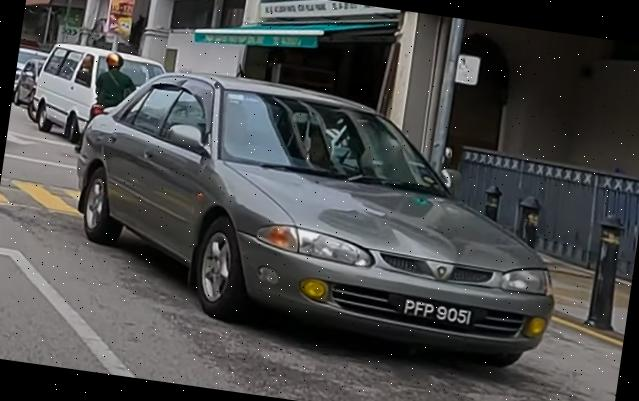License_Plate: (400, 296, 476, 329)
car: (53, 55, 581, 374)
